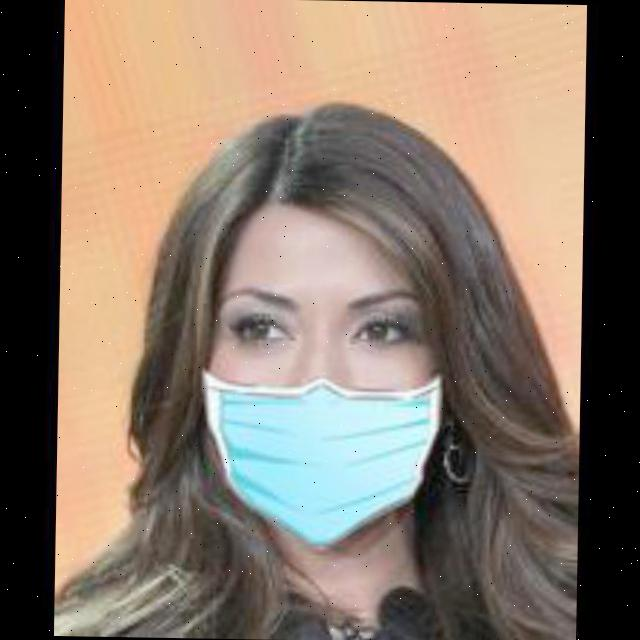suspicion: (185, 174, 453, 554)
